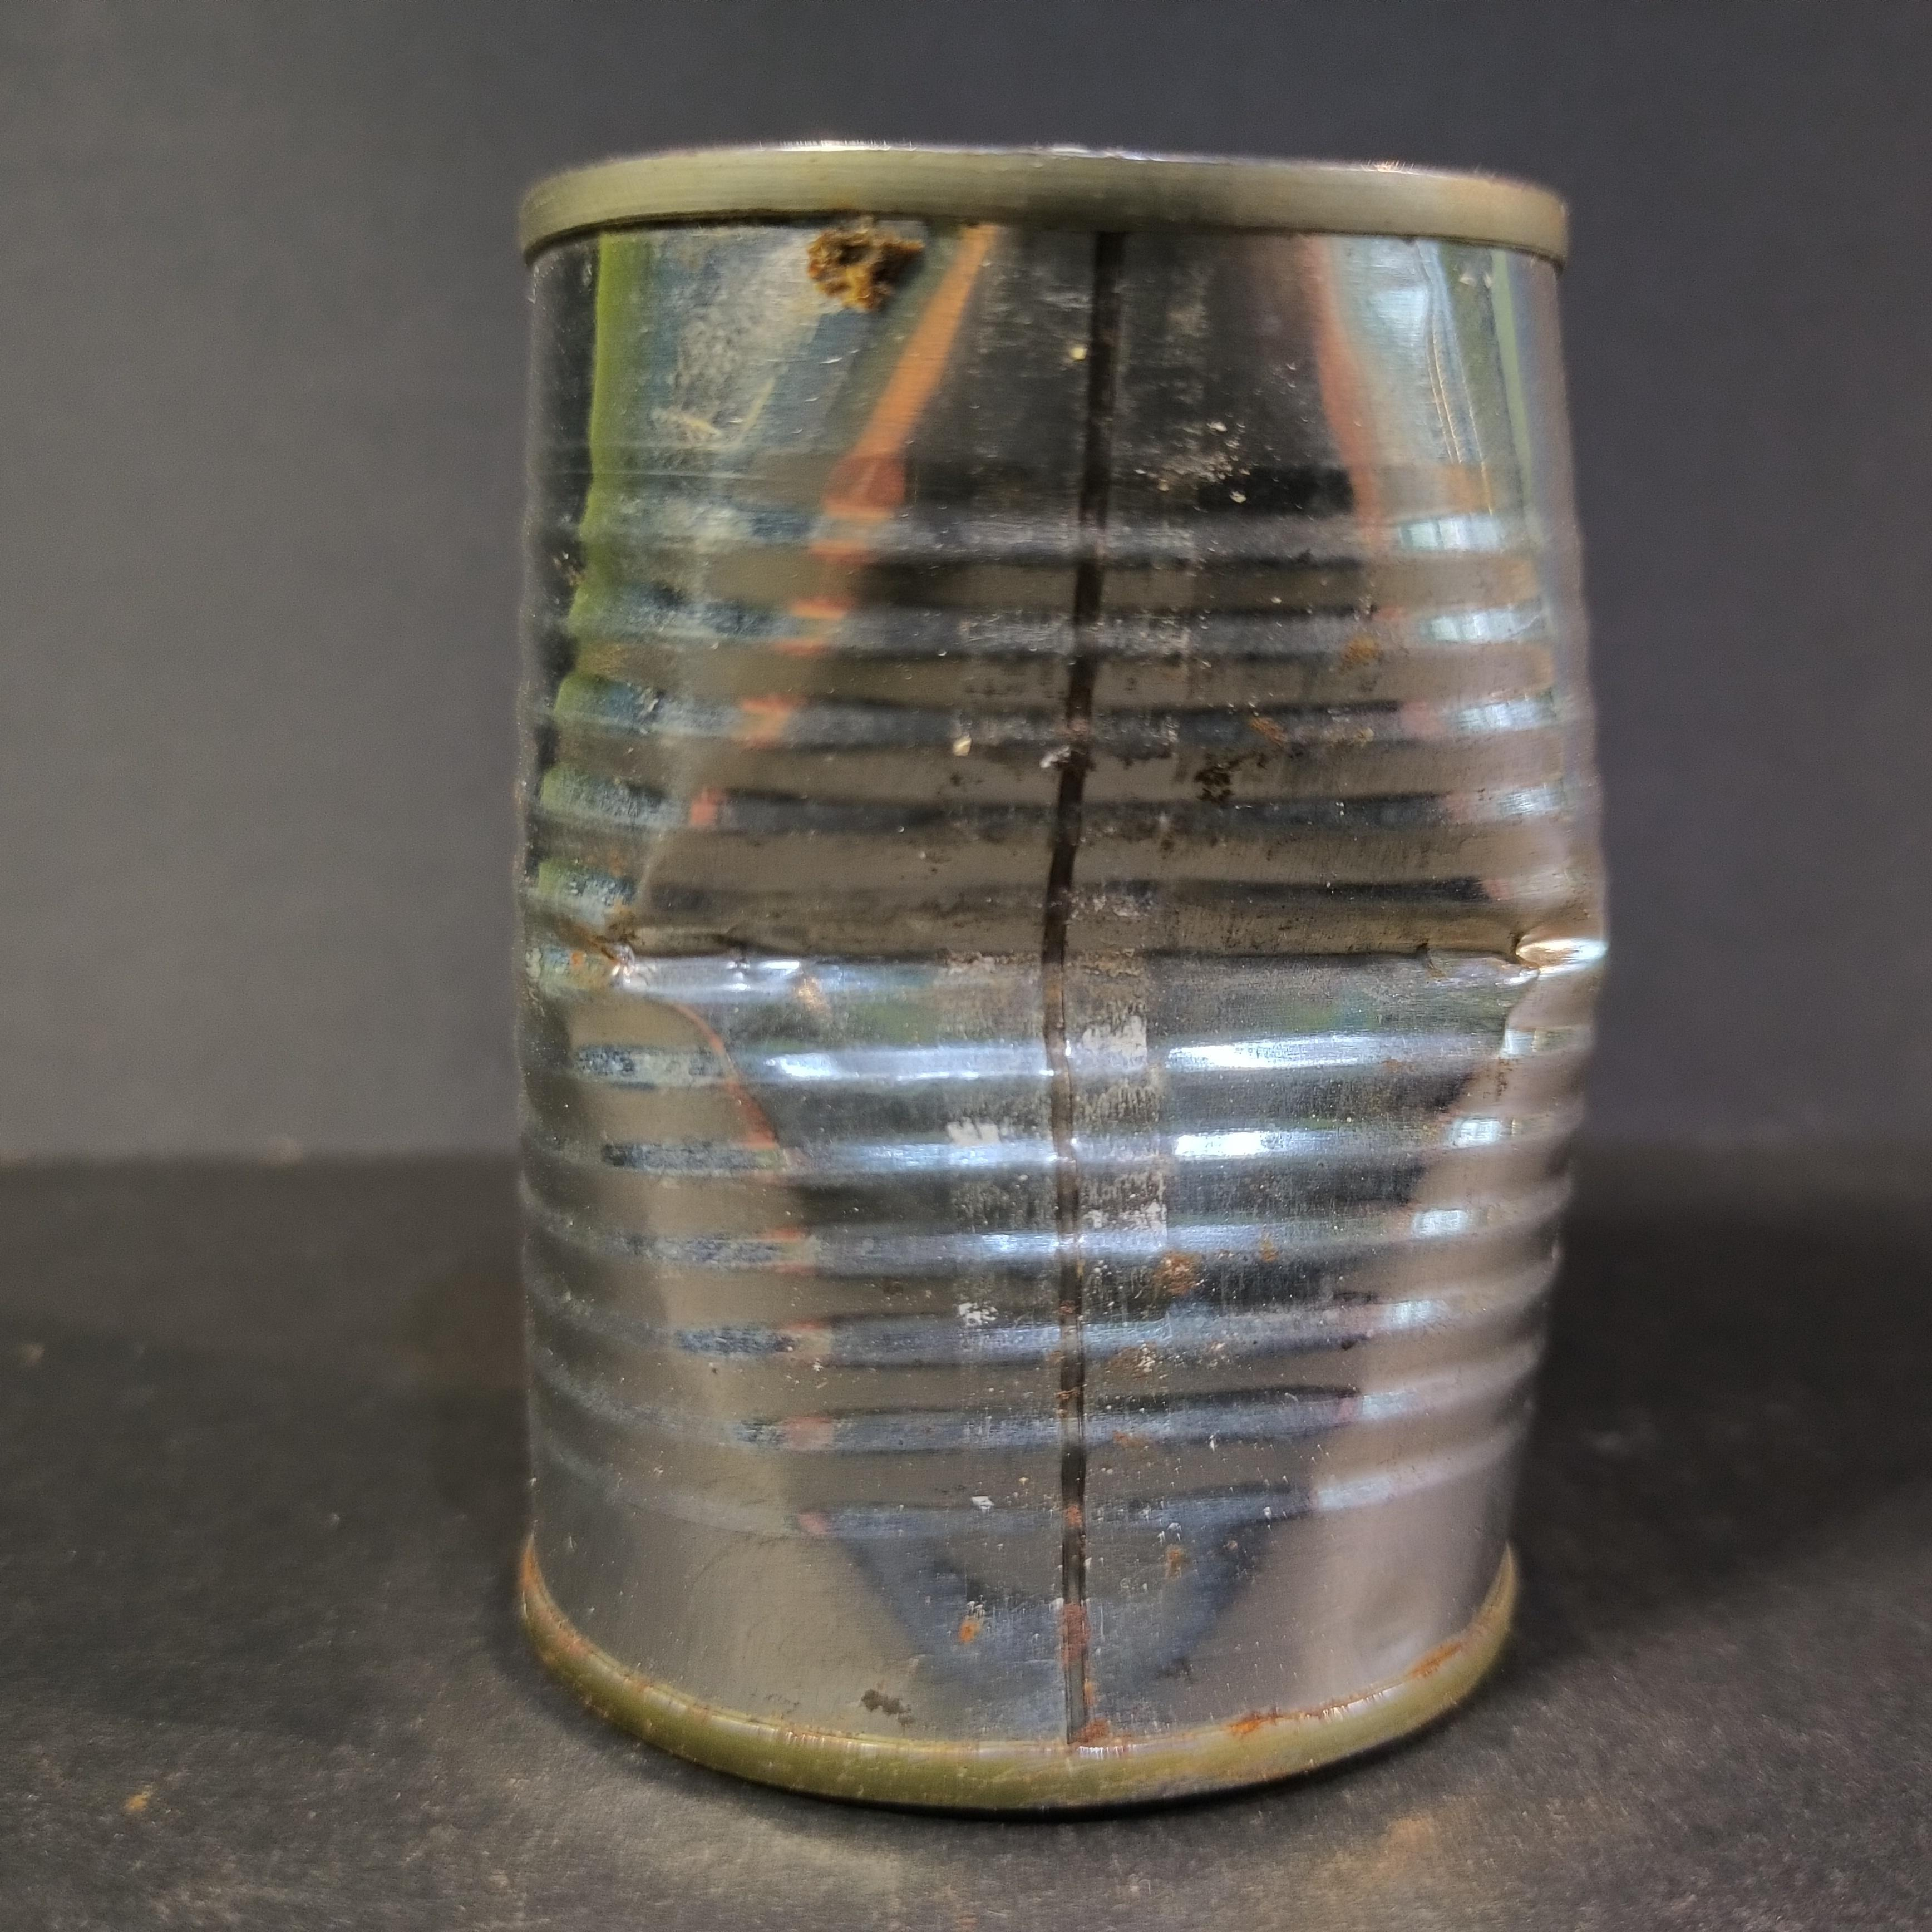Dented: (478, 97, 1592, 1838)
